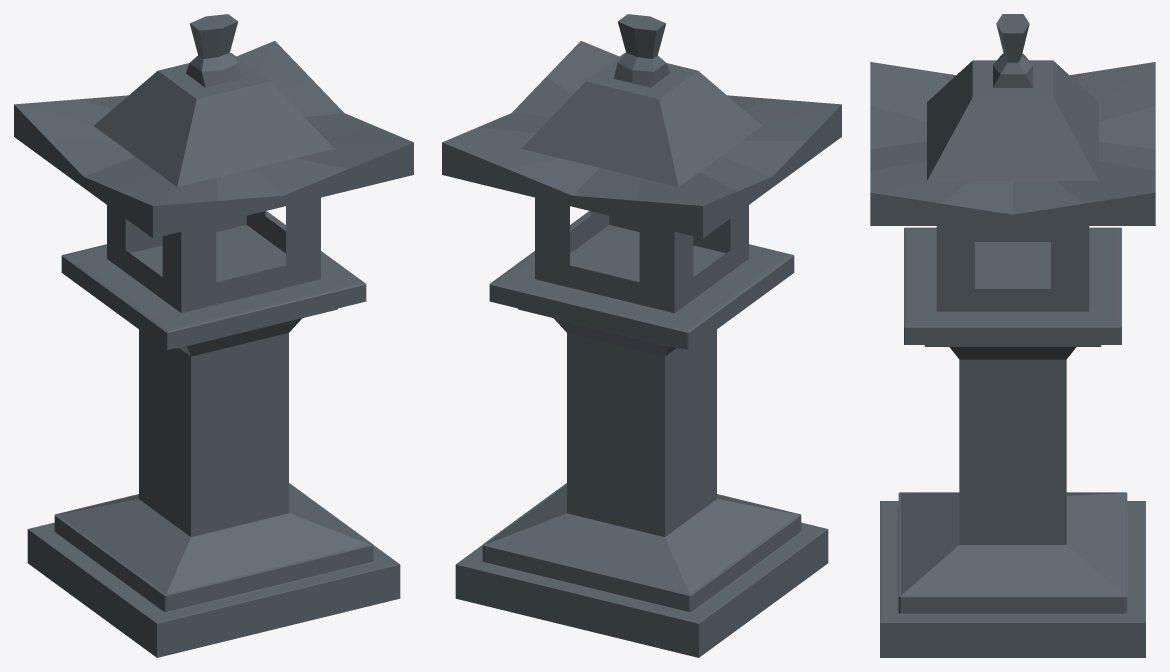
Rendered from SM_Prop_FarolaJaponesa.fbx.
3 renders of one model, left to right at view 1: azimuth 30°, elevation 25°; view 2: azimuth 150°, elevation 25°; view 3: azimuth 270°, elevation 25°, orthographic. The views are drawn at different scales.
Visible parts, largest first — view 1: Cube; view 2: Cube; view 3: Cube.
Boxes of the visible parts, box(x1,y1,x2,y2) form: Cube: box(14, 14, 413, 657); Cube: box(442, 14, 841, 657); Cube: box(870, 14, 1155, 657).
Bounding box in the file's own units: 116 × 237 × 107.
1 material, 1 textured.
